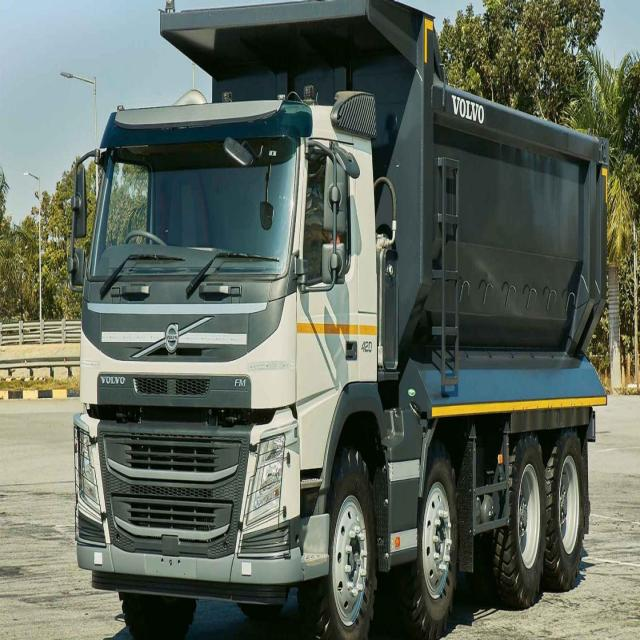dump_truck: (70, 0, 626, 614)
